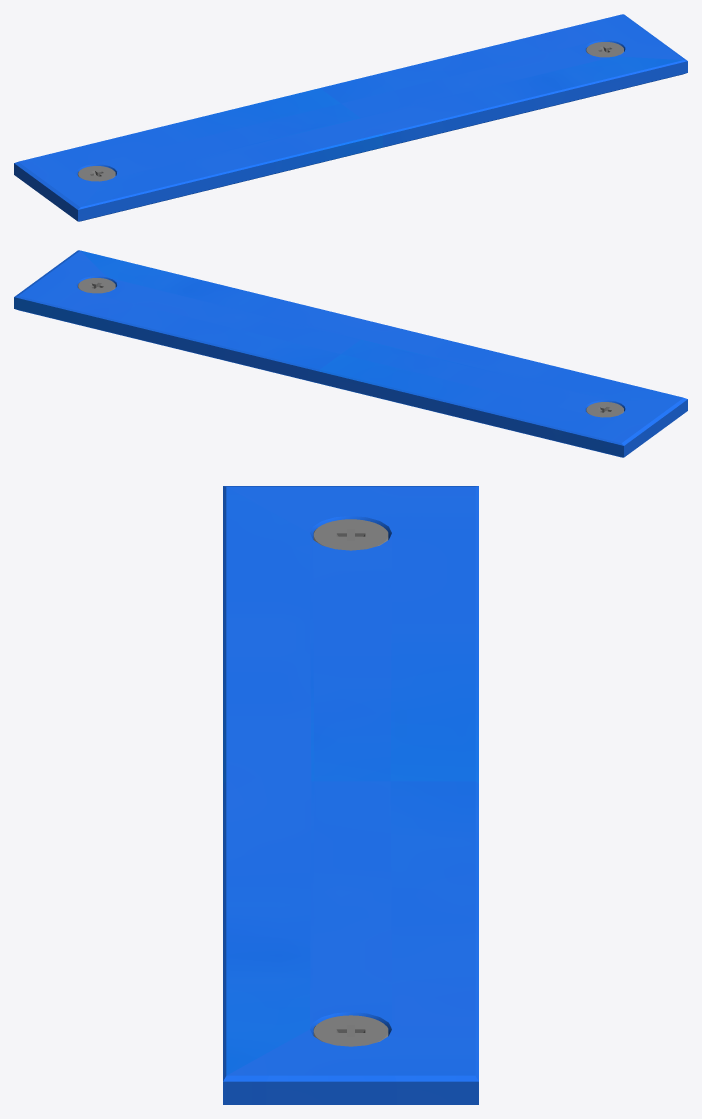
File: BoltedPlankBlue.fbx
3 renders of one model, top to bottom at view 1: azimuth 30°, elevation 25°; view 2: azimuth 150°, elevation 25°; view 3: azimuth 270°, elevation 25°, orthographic. The views are drawn at different scales.
Parts seen in each view (by area): view 1: Cube, Cube.001; view 2: Cube, Cube.001; view 3: Cube, Cube.001.
Part boxes in pixels (<box>): Cube: <box>14,14,687,221</box>; Cube.001: <box>78,42,623,181</box>; Cube: <box>14,250,687,457</box>; Cube.001: <box>78,278,623,417</box>; Cube: <box>223,486,478,1104</box>; Cube.001: <box>313,519,388,1046</box>.
Bounding box in the file's own units: 21.97 × 0.4885 × 3.99.
